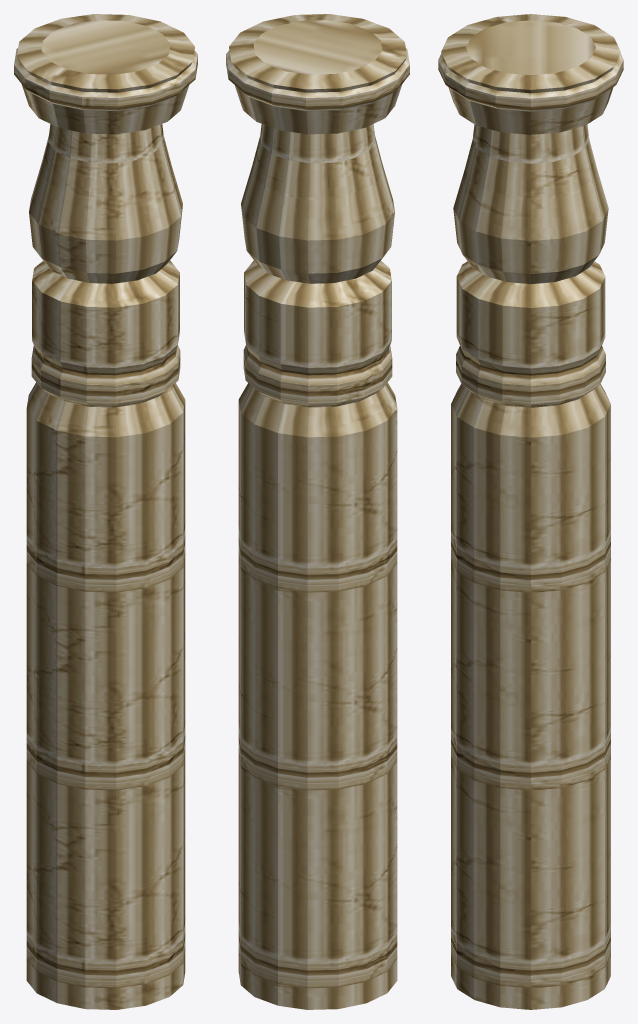
The model's file is flappy piller.glb.
3 renders of one model, left to right at view 1: azimuth 30°, elevation 25°; view 2: azimuth 150°, elevation 25°; view 3: azimuth 270°, elevation 25°, orthographic.
Parts seen in each view (by area): view 1: Cube; view 2: Cube; view 3: Cube.
Part boxes in pixels (box(x1,y1,x2,y2)): Cube: box(14, 14, 197, 1009); Cube: box(226, 14, 409, 1009); Cube: box(438, 14, 623, 1009).
Size of the model in its own units: 2.32 by 12.82 by 2.32.
1 material, 1 textured.
